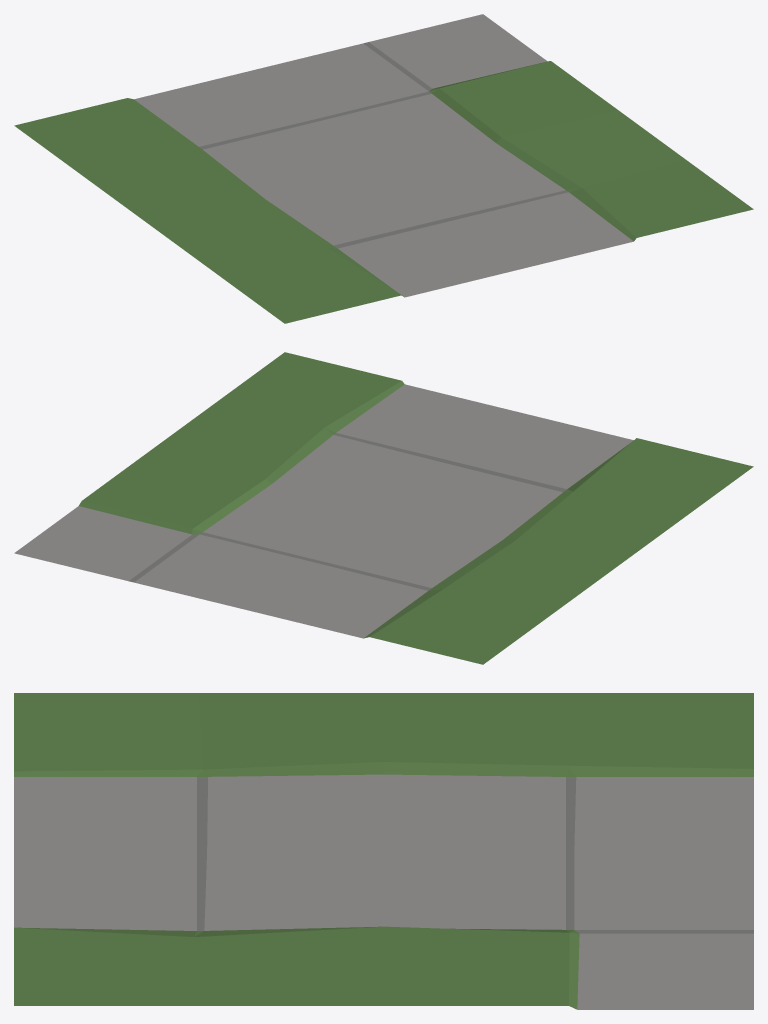
The model's file is SM_Env_Driveway_PathRight_01.fbx.
The picture shows the model from 3 angles, top to bottom: view 1: azimuth 30°, elevation 25°; view 2: azimuth 150°, elevation 25°; view 3: azimuth 270°, elevation 25°; orthographic projection. The views are drawn at different scales.
Visible parts, largest first — view 1: SM_Env_Driveway_PathRight_01; view 2: SM_Env_Driveway_PathRight_01; view 3: SM_Env_Driveway_PathRight_01.
Boxes of the visible parts, x1=… form: SM_Env_Driveway_PathRight_01: x1=14, y1=14, x2=753, y2=323; SM_Env_Driveway_PathRight_01: x1=14, y1=352, x2=753, y2=664; SM_Env_Driveway_PathRight_01: x1=14, y1=693, x2=753, y2=1009.
Size of the model in its own units: 500 by 4.07 by 500.
